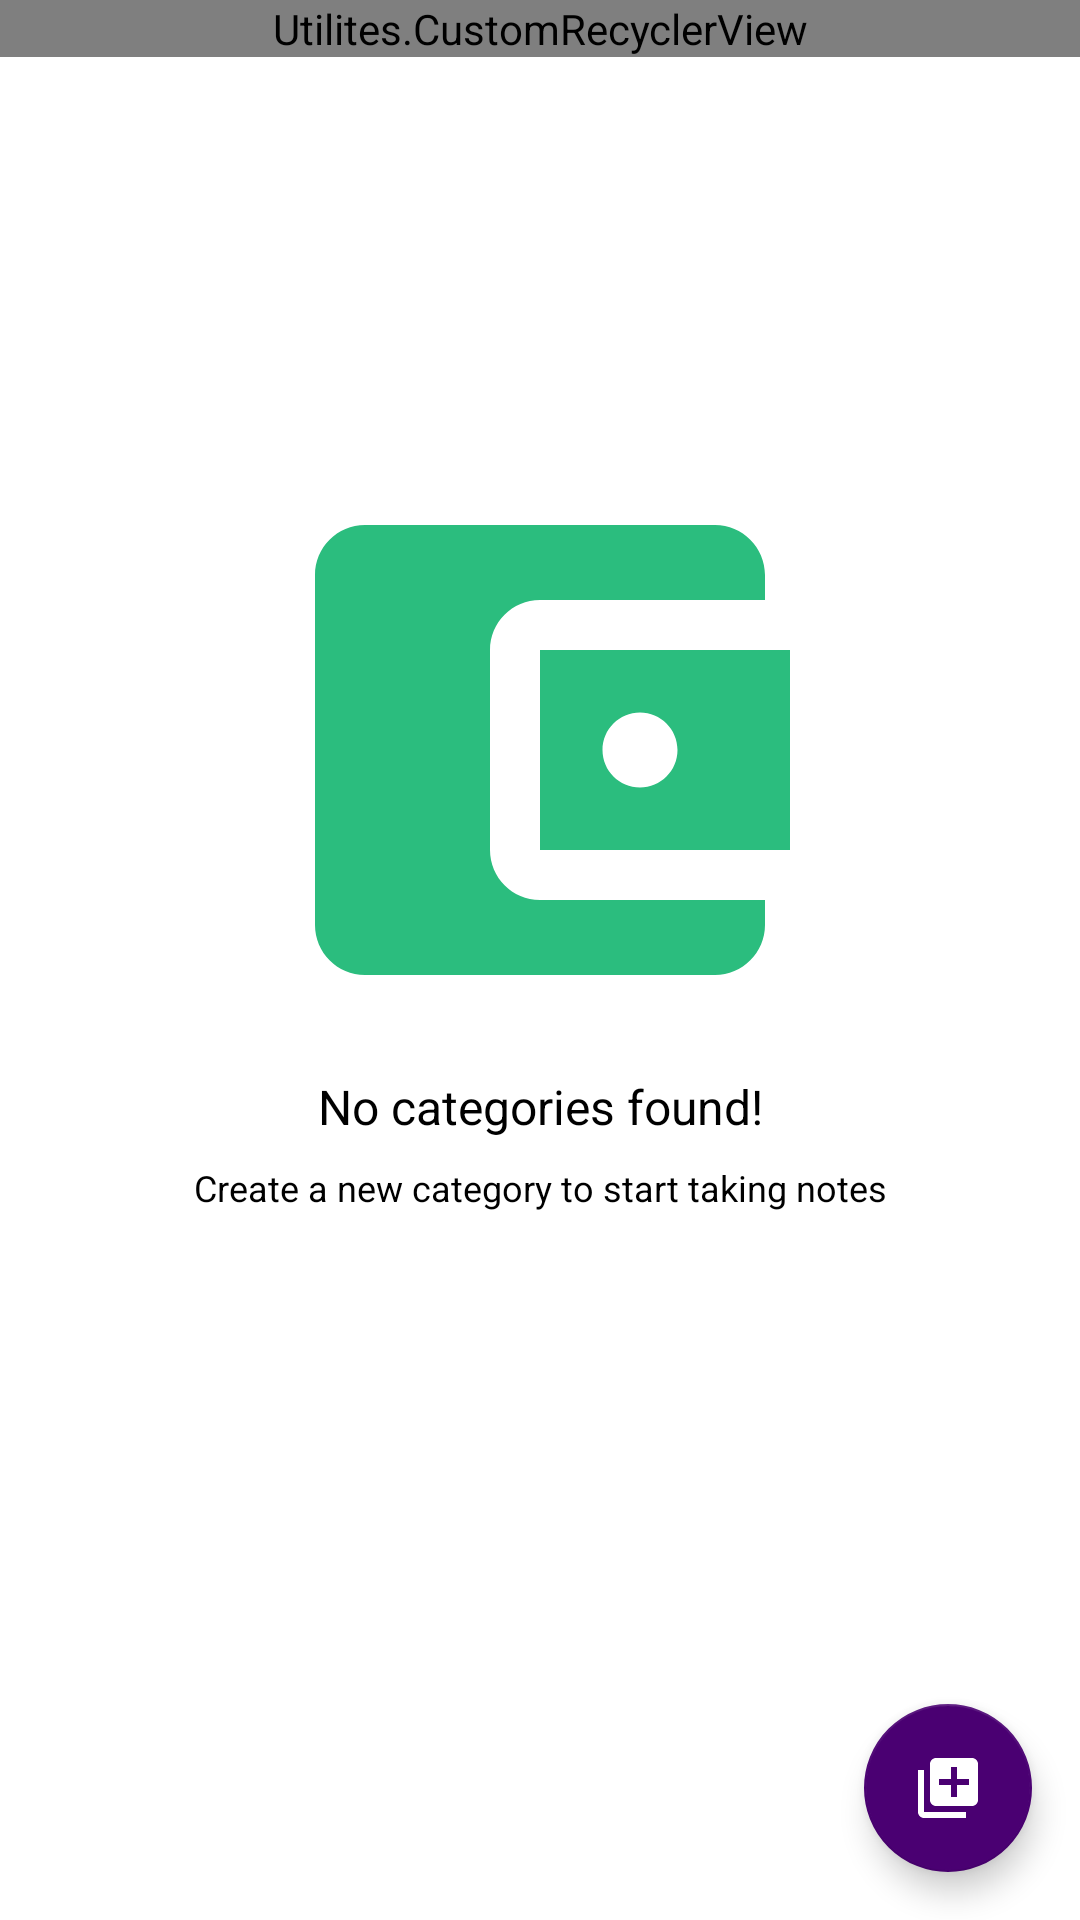

Point at icon controls on the screen. Image size 1080 × 1920, points as [x,y].
category add: [948,1788]
